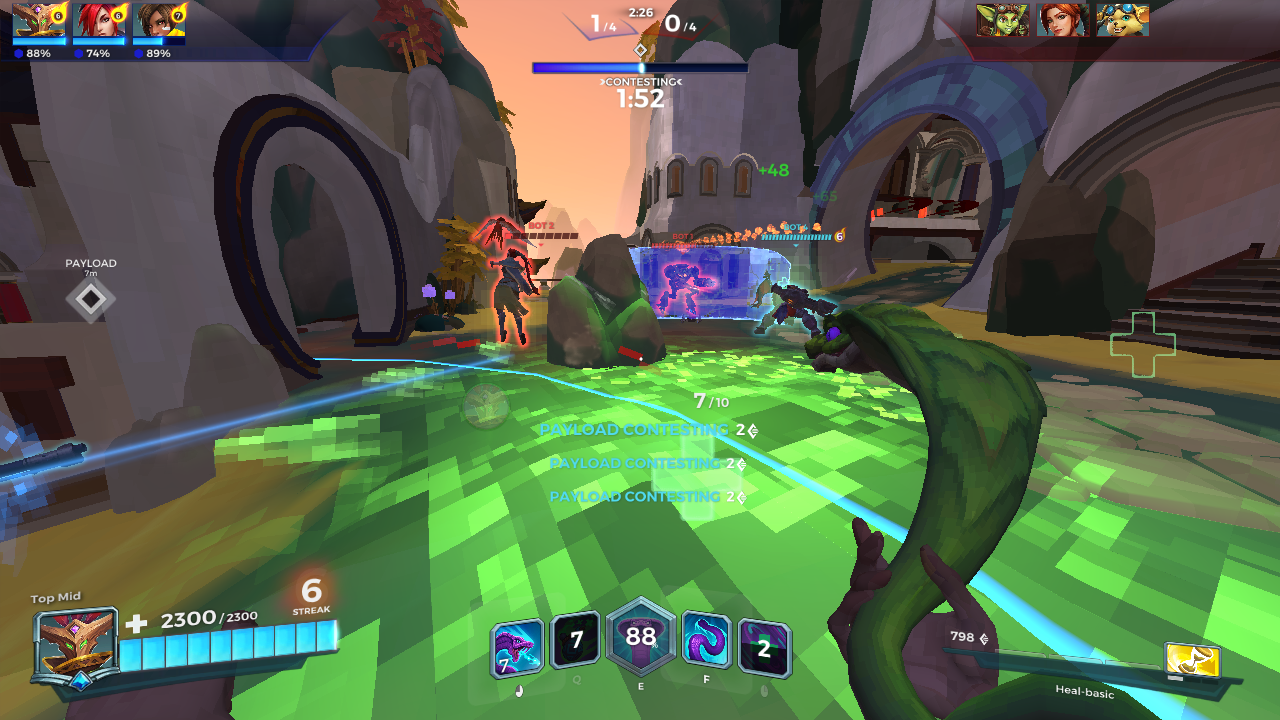model: (487, 239, 530, 348), (652, 252, 708, 320)
